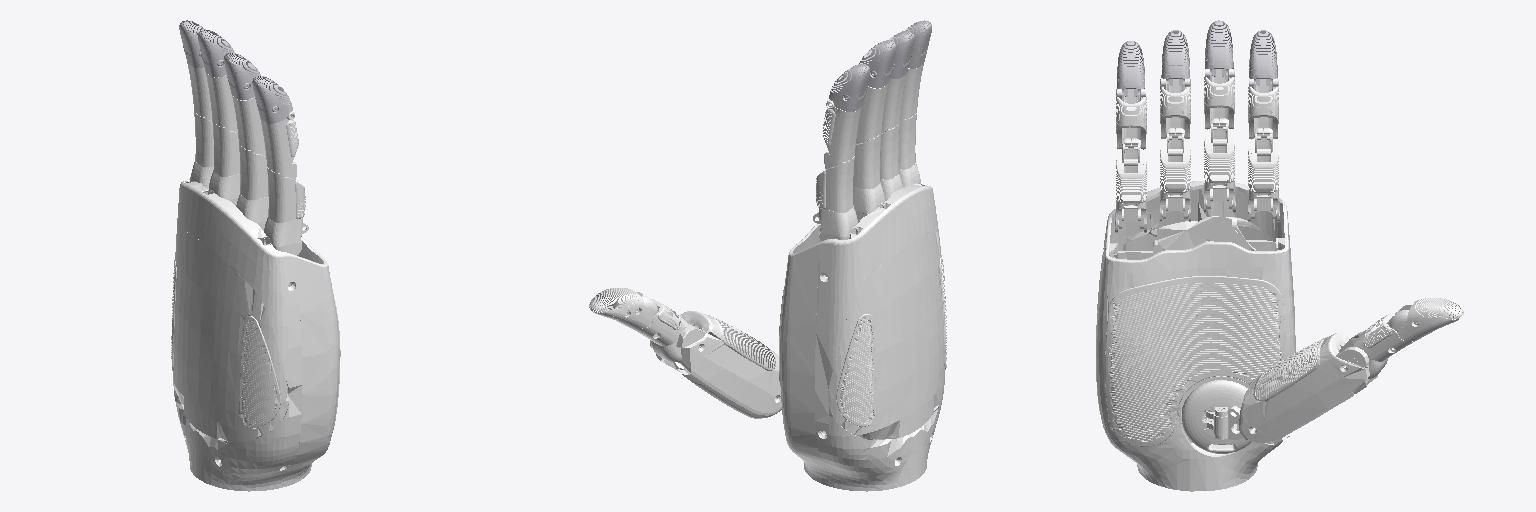
--- What the picture shows (computed from the rendered views, not written in the file) ---
The picture shows the robot from 3 angles, left to right: view 1: azimuth 30°, elevation 25°; view 2: azimuth 150°, elevation 25°; view 3: azimuth 270°, elevation 25°; orthographic projection.
Model linkerhand_l20pro_v1.0_right.urdf with 22 links and 21 joints (21 revolute), rooted at base_link, posed every joint at zero.
Links seen in each view (by area): view 1: base_link, pinky_proximal, ring_proximal, middle_proximal, pinky_middle, pinky_distal, index_proximal, ring_middle, middle_middle, ring_distal, middle_distal, index_middle (+1 smaller); view 2: base_link, thumb_metacarpals, index_proximal, middle_proximal, thumb_distal, index_middle, thumb_proximal, index_distal, ring_proximal, middle_middle, pinky_proximal, middle_distal (+4 smaller); view 3: base_link, thumb_metacarpals, thumb_metacarpals_base1, pinky_proximal, middle_proximal, index_proximal, ring_proximal, thumb_distal, thumb_proximal, ring_middle, index_middle, middle_middle (+6 smaller).
Link boxes in pixels (box(x1,y1,x2,y2)): base_link: box(171, 179, 340, 491); pinky_proximal: box(264, 162, 308, 254); ring_proximal: box(236, 143, 268, 230); middle_proximal: box(208, 121, 239, 205); pinky_middle: box(260, 112, 298, 176); pinky_distal: box(252, 76, 292, 123); index_proximal: box(190, 112, 213, 188); ring_middle: box(232, 96, 263, 153); middle_middle: box(205, 72, 236, 130); ring_distal: box(224, 53, 260, 100); middle_distal: box(198, 30, 234, 77); index_middle: box(187, 63, 211, 120); base_link: box(779, 183, 946, 491); thumb_metacarpals: box(650, 311, 781, 418); index_proximal: box(813, 152, 858, 241); middle_proximal: box(853, 133, 885, 222); thumb_distal: box(589, 288, 657, 329); index_middle: box(823, 100, 861, 166); thumb_proximal: box(633, 299, 688, 362); index_distal: box(829, 64, 869, 111); ring_proximal: box(880, 124, 902, 200); middle_middle: box(857, 83, 888, 142); pinky_proximal: box(899, 113, 920, 187); middle_distal: box(859, 40, 896, 88); base_link: box(1096, 181, 1295, 491); thumb_metacarpals: box(1237, 331, 1377, 444); thumb_metacarpals_base1: box(1182, 380, 1251, 453); pinky_proximal: box(1115, 138, 1146, 232); middle_proximal: box(1204, 118, 1235, 212); index_proximal: box(1248, 128, 1279, 221); ring_proximal: box(1160, 128, 1190, 221); thumb_distal: box(1389, 298, 1463, 341); thumb_proximal: box(1352, 314, 1412, 379); ring_middle: box(1160, 78, 1190, 138); index_middle: box(1248, 78, 1278, 138); middle_middle: box(1204, 69, 1234, 128).
Size in the robot's own frame: 0.1182 by 0.1961 by 0.2517 metres.
22 mesh visuals loaded from 22 distinct referenced files (22 binary STL).

URDF robot description (linkerhand_l20pro_v1.0_right.urdf):
<?xml version="1.0" encoding="utf-8"?>
<!-- This URDF was automatically created by SolidWorks to URDF Exporter! Originally created by Stephen Brawner ([email redacted]) 
     Commit Version: 1.6.0-1-g15f4949  Build Version: 1.6.7594.29634
     For more information, please see http://wiki.ros.org/sw_urdf_exporter -->
<robot
  name="linkerhand_l20pro_v1.0_right.urdf">
  <link
    name="base_link">
    <inertial>
      <origin
        xyz="-0.00631544454449476 0.0016887294851371 0.206318093383433"
        rpy="0 0 0" />
      <mass
        value="0.0184557796122669" />
      <inertia
        ixx="9.4731935680696E-05"
        ixy="5.28483125141477E-07"
        ixz="-1.71603786808366E-05"
        iyy="8.67320870706719E-05"
        iyz="-4.689501036235E-06"
        izz="1.58260679860554E-05" />
    </inertial>
    <visual>
      <origin
        xyz="0 0 0"
        rpy="0 0 0" />
      <geometry>
        <mesh
          filename="meshes/base_link.STL" />
      </geometry>
      <material
        name="">
        <color
          rgba="1 1 1 1" />
      </material>
    </visual>
    <collision>
      <origin
        xyz="0 0 0"
        rpy="0 0 0" />
      <geometry>
        <mesh
          filename="meshes/base_link.STL" />
      </geometry>
    </collision>
  </link>
  <link
    name="index_metacarpals">
    <inertial>
      <origin
        xyz="-0.00381524728449285 -0.0335612705443158 0.0588181054434941"
        rpy="0 0 0" />
      <mass
        value="0.0184557796122669" />
      <inertia
        ixx="9.47319356759753E-05"
        ixy="5.28483149494152E-07"
        ixz="-1.71603786976198E-05"
        iyy="8.67320870719603E-05"
        iyz="-4.68950100205031E-06"
        izz="1.58260679894876E-05" />
    </inertial>
    <visual>
      <origin
        xyz="0 0 0"
        rpy="0 0 0" />
      <geometry>
        <mesh
          filename="meshes/index_metacarpals.STL" />
      </geometry>
      <material
        name="">
        <color
          rgba="1 1 1 1" />
      </material>
    </visual>
    <collision>
      <origin
        xyz="0 0 0"
        rpy="0 0 0" />
      <geometry>
        <mesh
          filename="meshes/index_metacarpals.STL" />
      </geometry>
    </collision>
  </link>
  <joint
    name="index_mcp_roll"
    type="revolute">
    <origin
      xyz="-0.00250019735262905 0.0352500000300422 0.147499987934267"
      rpy="0 0 0" />
    <parent
      link="base_link" />
    <child
      link="index_metacarpals" />
    <axis
      xyz="1 0 0" />
    <limit
      lower="-0.2618"
      upper="0.2618"
      effort="100"
      velocity="1" />
  </joint>
  <link
    name="index_proximal">
    <inertial>
      <origin
        xyz="-0.00381524728449285 -0.0335612705443158 0.0588181054434941"
        rpy="0 0 0" />
      <mass
        value="0.0184557796122669" />
      <inertia
        ixx="9.47319356759753E-05"
        ixy="5.28483149494152E-07"
        ixz="-1.71603786976198E-05"
        iyy="8.67320870719603E-05"
        iyz="-4.68950100205031E-06"
        izz="1.58260679894876E-05" />
    </inertial>
    <visual>
      <origin
        xyz="0 0 0"
        rpy="0 0 0" />
      <geometry>
        <mesh
          filename="meshes/index_proximal.STL" />
      </geometry>
      <material
        name="">
        <color
          rgba="1 1 1 1" />
      </material>
    </visual>
    <collision>
      <origin
        xyz="0 0 0"
        rpy="0 0 0" />
      <geometry>
        <mesh
          filename="meshes/index_proximal.STL" />
      </geometry>
    </collision>
  </link>
  <joint
    name="index_mcp_pitch"
    type="revolute">
    <origin
      xyz="0 0 0"
      rpy="0 0 0" />
    <parent
      link="index_metacarpals" />
    <child
      link="index_proximal" />
    <axis
      xyz="0 1 0" />
    <limit
      lower="0"
      upper="1.3422"
      effort="100"
      velocity="1" />
  </joint>
  <link
    name="index_middle">
    <inertial>
      <origin
        xyz="0.000379310015347818 -0.0335612705427152 0.0139986727610816"
        rpy="0 0 0" />
      <mass
        value="0.0184557796122669" />
      <inertia
        ixx="9.47318862679643E-05"
        ixy="5.28489900856422E-07"
        ixz="-1.71604922899797E-05"
        iyy="8.67320870723408E-05"
        iyz="-4.68950023734492E-06"
        izz="1.58261173971183E-05" />
    </inertial>
    <visual>
      <origin
        xyz="0 0 0"
        rpy="0 0 0" />
      <geometry>
        <mesh
          filename="meshes/index_middle.STL" />
      </geometry>
      <material
        name="">
        <color
          rgba="1 1 1 1" />
      </material>
    </visual>
    <collision>
      <origin
        xyz="0 0 0"
        rpy="0 0 0" />
      <geometry>
        <mesh
          filename="meshes/index_middle.STL" />
      </geometry>
    </collision>
  </link>
  <joint
    name="index_pip"
    type="revolute">
    <origin
      xyz="-0.00419457745591119 0 0.0448194332294146"
      rpy="0 0 0" />
    <parent
      link="index_proximal" />
    <child
      link="index_middle" />
    <axis
      xyz="0 1 0" />
    <limit
      lower="0"
      upper="1.69297"
      effort="100"
      velocity="1" />
  </joint>
  <link
    name="index_distal">
    <inertial>
      <origin
        xyz="-0.00852377306534634 -0.000203307583503763 0.00894633822362381"
        rpy="0 0 0" />
      <mass
        value="0.00818272691763665" />
      <inertia
        ixx="4.17703277687667E-07"
        ixy="-1.76519629509578E-10"
        ixz="-1.38305988666323E-07"
        iyy="4.49663376327698E-07"
        iyz="8.78549591407587E-11"
        izz="3.19809016538874E-07" />
    </inertial>
    <visual>
      <origin
        xyz="0 0 0"
        rpy="0 0 0" />
      <geometry>
        <mesh
          filename="meshes/index_distal.STL" />
      </geometry>
      <material
        name="">
        <color
          rgba="0.866666666666667 0.866666666666667 0.890196078431372 1" />
      </material>
    </visual>
    <collision>
      <origin
        xyz="0 0 0"
        rpy="0 0 0" />
      <geometry>
        <mesh
          filename="meshes/index_distal.STL" />
      </geometry>
    </collision>
  </link>
  <joint
    name="index_dip"
    type="revolute">
    <origin
      xyz="0.00320206348796069 0 0.0316604484170347"
      rpy="0 0 0" />
    <parent
      link="index_middle" />
    <child
      link="index_distal" />
    <axis
      xyz="0 1 0" />
    <limit
      lower="0"
      upper="1.25"
      effort="100"
      velocity="1" />
    <mimic
      joint="index_pip"
      multiplier="0.7396"
      offset="0" />
  </joint>
  <link
    name="middle_metacarpals">
    <inertial>
      <origin
        xyz="-0.00131524716759281 -0.0100612705239658 0.0543181054400746"
        rpy="0 0 0" />
      <mass
        value="0.0184557796122669" />
      <inertia
        ixx="9.473193568938E-05"
        ixy="5.28483125398019E-07"
        ixz="-1.71603786608279E-05"
        iyy="8.67320870698851E-05"
        iyz="-4.68950104231411E-06"
        izz="1.58260679781582E-05" />
    </inertial>
    <visual>
      <origin
        xyz="0 0 0"
        rpy="0 0 0" />
      <geometry>
        <mesh
          filename="meshes/middle_metacarpals.STL" />
      </geometry>
      <material
        name="">
        <color
          rgba="1 1 1 1" />
      </material>
    </visual>
    <collision>
      <origin
        xyz="0 0 0"
        rpy="0 0 0" />
      <geometry>
        <mesh
          filename="meshes/middle_metacarpals.STL" />
      </geometry>
    </collision>
  </link>
  <joint
    name="middle_mcp_roll"
    type="revolute">
    <origin
      xyz="-0.0050002 0.01175 0.152"
      rpy="0 0 0" />
    <parent
      link="base_link" />
    <child
      link="middle_metacarpals" />
    <axis
      xyz="1 0 0" />
    <limit
      lower="-0.2618"
      upper="0.2618"
      effort="100"
      velocity="1" />
  </joint>
  <link
    name="middle_proximal">
    <inertial>
      <origin
        xyz="-0.00131524716759281 -0.0100612705239658 0.0543181054400746"
        rpy="0 0 0" />
      <mass
        value="0.0184557796122669" />
      <inertia
        ixx="9.473193568938E-05"
        ixy="5.28483125398019E-07"
        ixz="-1.71603786608279E-05"
        iyy="8.67320870698851E-05"
        iyz="-4.68950104231411E-06"
        izz="1.58260679781582E-05" />
    </inertial>
    <visual>
      <origin
        xyz="0 0 0"
        rpy="0 0 0" />
      <geometry>
        <mesh
          filename="meshes/middle_proximal.STL" />
      </geometry>
      <material
        name="">
        <color
          rgba="1 1 1 1" />
      </material>
    </visual>
    <collision>
      <origin
        xyz="0 0 0"
        rpy="0 0 0" />
      <geometry>
        <mesh
          filename="meshes/middle_proximal.STL" />
      </geometry>
    </collision>
  </link>
  <joint
    name="middle_mcp_pitch"
    type="revolute">
    <origin
      xyz="0 0 0"
      rpy="0 0 0" />
    <parent
      link="middle_metacarpals" />
    <child
      link="middle_proximal" />
    <axis
      xyz="0 1 0" />
    <limit
      lower="0"
      upper="1.3422"
      effort="100"
      velocity="1" />
  </joint>
  <link
    name="middle_middle">
    <inertial>
      <origin
        xyz="0.0028793 -0.010061 0.0094987"
        rpy="0 0 0" />
      <mass
        value="0.018456" />
      <inertia
        ixx="9.4732E-05"
        ixy="5.2849E-07"
        ixz="-1.716E-05"
        iyy="8.6732E-05"
        iyz="-4.6895E-06"
        izz="1.5826E-05" />
    </inertial>
    <visual>
      <origin
        xyz="0 0 0"
        rpy="0 0 0" />
      <geometry>
        <mesh
          filename="meshes/middle_middle.STL" />
      </geometry>
      <material
        name="">
        <color
          rgba="1 1 1 1" />
      </material>
    </visual>
    <collision>
      <origin
        xyz="0 0 0"
        rpy="0 0 0" />
      <geometry>
        <mesh
          filename="meshes/middle_middle.STL" />
      </geometry>
    </collision>
  </link>
  <joint
    name="middle_pip"
    type="revolute">
    <origin
      xyz="-0.00419457745591117 0 0.0448194332294145"
      rpy="0 0 0" />
    <parent
      link="middle_proximal" />
    <child
      link="middle_middle" />
    <axis
      xyz="0 1 0" />
    <limit
      lower="0"
      upper="1.69297"
      effort="100"
      velocity="1" />
  </joint>
  <link
    name="middle_distal">
    <inertial>
      <origin
        xyz="-0.00845381260393399 -0.000203304591779665 0.00901246396592514"
        rpy="0 0 0" />
      <mass
        value="0.00818272151090883" />
      <inertia
        ixx="4.19852064101858E-07"
        ixy="-1.75674500068995E-10"
        ixz="-1.37526252586203E-07"
        iyy="4.49662692918361E-07"
        iyz="8.91184159243184E-11"
        izz="3.17660052164253E-07" />
    </inertial>
    <visual>
      <origin
        xyz="0 0 0"
        rpy="0 0 0" />
      <geometry>
        <mesh
          filename="meshes/middle_distal.STL" />
      </geometry>
      <material
        name="">
        <color
          rgba="0.866666666666667 0.866666666666667 0.890196078431372 1" />
      </material>
    </visual>
    <collision>
      <origin
        xyz="0 0 0"
        rpy="0 0 0" />
      <geometry>
        <mesh
          filename="meshes/middle_distal.STL" />
      </geometry>
    </collision>
  </link>
  <joint
    name="middle_dip"
    type="revolute">
    <origin
      xyz="0.0032021 0 0.03166"
      rpy="0 0 0" />
    <parent
      link="middle_middle" />
    <child
      link="middle_distal" />
    <axis
      xyz="0 1 0" />
    <limit
      lower="0"
      upper="1.25"
      effort="100"
      velocity="1" />
    <mimic
      joint="middle_pip"
      multiplier="0.7396"
      offset="0" />
  </joint>
  <link
    name="ring_metacarpals">
    <inertial>
      <origin
        xyz="-0.00381524716644589 0.0134387294756574 0.0588181054426797"
        rpy="0 0 0" />
      <mass
        value="0.0184557796122669" />
      <inertia
        ixx="9.473193568938E-05"
        ixy="5.28483125397999E-07"
        ixz="-1.71603786608279E-05"
        iyy="8.67320870698851E-05"
        iyz="-4.68950104231402E-06"
        izz="1.58260679781582E-05" />
    </inertial>
    <visual>
      <origin
        xyz="0 0 0"
        rpy="0 0 0" />
      <geometry>
        <mesh
          filename="meshes/ring_metacarpals.STL" />
      </geometry>
      <material
        name="">
        <color
          rgba="1 1 1 1" />
      </material>
    </visual>
    <collision>
      <origin
        xyz="0 0 0"
        rpy="0 0 0" />
      <geometry>
        <mesh
          filename="meshes/ring_metacarpals.STL" />
      </geometry>
    </collision>
  </link>
  <joint
    name="ring_mcp_roll"
    type="revolute">
    <origin
      xyz="-0.00250019736316104 -0.0117499999954557 0.147499987942847"
      rpy="0 0 0" />
    <parent
      link="base_link" />
    <child
      link="ring_metacarpals" />
    <axis
      xyz="1 0 0" />
    <limit
      lower="-0.2618"
      upper="0.2618"
      effort="100"
      velocity="1" />
  </joint>
  <link
    name="ring_proximal">
    <inertial>
      <origin
        xyz="-0.00381524716644589 0.0134387294756574 0.0588181054426797"
        rpy="0 0 0" />
      <mass
        value="0.0184557796122669" />
      <inertia
        ixx="9.473193568938E-05"
        ixy="5.28483125397999E-07"
        ixz="-1.71603786608279E-05"
        iyy="8.67320870698851E-05"
        iyz="-4.68950104231403E-06"
        izz="1.58260679781582E-05" />
    </inertial>
    <visual>
      <origin
        xyz="0 0 0"
        rpy="0 0 0" />
      <geometry>
        <mesh
          filename="meshes/ring_proximal.STL" />
      </geometry>
      <material
        name="">
        <color
          rgba="1 1 1 1" />
      </material>
    </visual>
    <collision>
      <origin
        xyz="0 0 0"
        rpy="0 0 0" />
      <geometry>
        <mesh
          filename="meshes/ring_proximal.STL" />
      </geometry>
    </collision>
  </link>
  <joint
    name="ring_mcp_pitch"
    type="revolute">
    <origin
      xyz="0 0 0"
      rpy="0 0 0" />
    <parent
      link="ring_metacarpals" />
    <child
      link="ring_proximal" />
    <axis
      xyz="0 1 0" />
    <limit
      lower="0"
      upper="1.3422"
      effort="100"
      velocity="1" />
  </joint>
  <link
    name="ring_middle">
    <inertial>
      <origin
        xyz="0.00037931 0.013439 0.013999"
        rpy="0 0 0" />
      <mass
        value="0.018456" />
      <inertia
        ixx="9.4732E-05"
        ixy="5.2849E-07"
        ixz="-1.716E-05"
        iyy="8.6732E-05"
        iyz="-4.6895E-06"
        izz="1.5826E-05" />
    </inertial>
    <visual>
      <origin
        xyz="0 0 0"
        rpy="0 0 0" />
      <geometry>
        <mesh
          filename="meshes/ring_middle.STL" />
      </geometry>
      <material
        name="">
        <color
          rgba="1 1 1 1" />
      </material>
    </visual>
    <collision>
      <origin
        xyz="0 0 0"
        rpy="0 0 0" />
      <geometry>
        <mesh
          filename="meshes/ring_middle.STL" />
      </geometry>
    </collision>
  </link>
  <joint
    name="ring_pip"
    type="revolute">
    <origin
      xyz="-0.00419457745591118 0 0.0448194332294145"
      rpy="0 0 0" />
    <parent
      link="ring_proximal" />
    <child
      link="ring_middle" />
    <axis
      xyz="0 1 0" />
    <limit
      lower="0"
      upper="1.69297"
      effort="100"
      velocity="1" />
  </joint>
  <link
    name="ring_distal">
    <inertial>
      <origin
        xyz="-0.00845547664679549 0.000195533577426556 0.00901097120211655"
        rpy="0 0 0" />
      <mass
        value="0.00818275453986967" />
      <inertia
        ixx="4.19803325595036E-07"
        ixy="-1.75687640844023E-10"
        ixz="-1.37546551087708E-07"
        iyy="4.49666480008407E-07"
        iyz="8.91125389758761E-11"
        izz="3.1771264359821E-07" />
    </inertial>
    <visual>
      <origin
        xyz="0 0 0"
        rpy="0 0 0" />
      <geometry>
        <mesh
          filename="meshes/ring_distal.STL" />
      </geometry>
      <material
        name="">
        <color
          rgba="0.866666666666667 0.866666666666667 0.890196078431372 1" />
      </material>
    </visual>
    <collision>
      <origin
        xyz="0 0 0"
        rpy="0 0 0" />
      <geometry>
        <mesh
          filename="meshes/ring_distal.STL" />
      </geometry>
    </collision>
  </link>
  <joint
    name="ring_dip"
    type="revolute">
    <origin
      xyz="0.00320206348796068 0 0.0316604484170347"
      rpy="0 0 0" />
    <parent
      link="ring_middle" />
    <child
      link="ring_distal" />
    <axis
      xyz="0 1 0" />
    <limit
      lower="0"
      upper="1.25"
      effort="100"
      velocity="1" />
    <mimic
      joint="ring_pip"
      multiplier="0.7396"
      offset="0" />
  </joint>
  <link
    name="pinky_metacarpals">
    <inertial>
      <origin
        xyz="-0.00731533831723678 0.03693872947705 0.0633180949135027"
        rpy="0 0 0" />
      <mass
        value="0.0184557796122669" />
      <inertia
        ixx="9.47318862814874E-05"
        ixy="5.28489875864518E-07"
        ixz="-1.71604922526628E-05"
        iyy="8.67320870701472E-05"
        iyz="-4.68950027953051E-06"
        izz="1.58261173857887E-05" />
    </inertial>
    <visual>
      <origin
        xyz="0 0 0"
        rpy="0 0 0" />
      <geometry>
        <mesh
          filename="meshes/pinky_metacarpals.STL" />
      </geometry>
      <material
        name="">
        <color
          rgba="1 1 1 1" />
      </material>
    </visual>
    <collision>
      <origin
        xyz="0 0 0"
        rpy="0 0 0" />
      <geometry>
        <mesh
          filename="meshes/pinky_metacarpals.STL" />
      </geometry>
    </collision>
  </link>
  <joint
    name="pinky_mcp_roll"
    type="revolute">
    <origin
      xyz="0.0009998 -0.03525 0.143"
      rpy="0 0 0" />
    <parent
      link="base_link" />
    <child
      link="pinky_metacarpals" />
    <axis
      xyz="1 0 0" />
    <limit
      lower="-0.2618"
      upper="0.2618"
      effort="100"
      velocity="1" />
  </joint>
  <link
    name="pinky_proximal">
    <inertial>
      <origin
        xyz="-0.00731533831723678 0.03693872947705 0.0633180949135027"
        rpy="0 0 0" />
      <mass
        value="0.0184557796122669" />
      <inertia
        ixx="9.47318862814874E-05"
        ixy="5.28489875864518E-07"
        ixz="-1.71604922526628E-05"
        iyy="8.67320870701472E-05"
        iyz="-4.68950027953051E-06"
        izz="1.58261173857887E-05" />
    </inertial>
    <visual>
      <origin
        xyz="0 0 0"
        rpy="0 0 0" />
      <geometry>
        <mesh
          filename="meshes/pinky_proximal.STL" />
      </geometry>
      <material
        name="">
        <color
          rgba="1 1 1 1" />
      </material>
    </visual>
    <collision>
      <origin
        xyz="0 0 0"
        rpy="0 0 0" />
      <geometry>
        <mesh
          filename="meshes/pinky_proximal.STL" />
      </geometry>
    </collision>
  </link>
  <joint
    name="pinky_mcp_pitch"
    type="revolute">
    <origin
      xyz="0 0 0"
      rpy="0 0 0" />
    <parent
      link="pinky_metacarpals" />
    <child
      link="pinky_proximal" />
    <axis
      xyz="0 1 0" />
    <limit
      lower="0"
      upper="1.3422"
      effort="100"
      velocity="1" />
  </joint>
  <link
    name="pinky_middle">
    <inertial>
      <origin
        xyz="0.00037931 0.013439 0.013999"
        rpy="0 0 0" />
      <mass
        value="0.018456" />
      <inertia
        ixx="9.4732E-05"
        ixy="5.2849E-07"
        ixz="-1.716E-05"
        iyy="8.6732E-05"
        iyz="-4.6895E-06"
        izz="1.5826E-05" />
    </inertial>
    <visual>
      <origin
        xyz="0 0 0"
        rpy="0 0 0" />
      <geometry>
        <mesh
          filename="meshes/pinky_middle.STL" />
      </geometry>
      <material
        name="">
        <color
          rgba="1 1 1 1" />
      </material>
    </visual>
    <collision>
      <origin
        xyz="0 0 0"
        rpy="0 0 0" />
      <geometry>
        <mesh
          filename="meshes/pinky_middle.STL" />
      </geometry>
    </collision>
  </link>
  <joint
    name="pinky_pip"
    type="revolute">
    <origin
      xyz="-0.0076946 0.0235 0.049319"
      rpy="0 0 0" />
    <parent
      link="pinky_proximal" />
    <child
      link="pinky_middle" />
    <axis
      xyz="0 1 0" />
    <limit
      lower="0"
      upper="1.693"
      effort="100"
      velocity="1" />
  </joint>
  <link
    name="pinky_distal">
    <inertial>
      <origin
        xyz="-0.00850222473325968 -0.000203303795147866 0.00896687092586304"
        rpy="0 0 0" />
      <mass
        value="0.00818275926134031" />
      <inertia
        ixx="4.18369702106363E-07"
        ixy="-1.76118934274718E-10"
        ixz="-1.38070197893498E-07"
        iyy="4.49666801705453E-07"
        iyz="8.82034372859545E-11"
        izz="3.19146202279066E-07" />
    </inertial>
    <visual>
      <origin
        xyz="0 0 0"
        rpy="0 0 0" />
      <geometry>
        <mesh
          filename="meshes/pinky_distal.STL" />
      </geometry>
      <material
        name="">
        <color
          rgba="0.866666666666667 0.866666666666667 0.890196078431372 1" />
      </material>
    </visual>
    <collision>
      <origin
        xyz="0 0 0"
        rpy="0 0 0" />
      <geometry>
        <mesh
          filename="meshes/pinky_distal.STL" />
      </geometry>
    </collision>
  </link>
  <joint
    name="pinky_dip"
    type="revolute">
    <origin
      xyz="0.00670206996232169 -0.0235000000005 0.0271604534533937"
      rpy="0 0 0" />
    <parent
      link="pinky_middle" />
    <child
      link="pinky_distal" />
    <axis
      xyz="0 1 0" />
    <limit
      lower="0"
      upper="1.24"
      effort="100"
      velocity="1" />
    <mimic
      joint="pinky_pip"
      multiplier="0.7396"
      offset="0" />
  </joint>
  <link
    name="thumb_metacarpals_base1">
    <inertial>
      <origin
        xyz="0.0134724353960023 1.0351626304559E-05 -0.00238205216079675"
        rpy="0 0 0" />
      <mass
        value="0.00252176316153845" />
      <inertia
        ixx="6.26810855308573E-07"
        ixy="-3.32426835069964E-09"
        ixz="1.29826443185812E-08"
        iyy="3.58172006507018E-07"
        iyz="-3.52633067696522E-10"
        izz="2.94683211652898E-07" />
    </inertial>
    <visual>
      <origin
        xyz="0 0 0"
        rpy="0 0 0" />
      <geometry>
        <mesh
          filename="meshes/thumb_metacarpals_base1.STL" />
      </geometry>
      <material
        name="">
        <color
          rgba="1 1 1 1" />
      </material>
    </visual>
    <collision>
      <origin
        xyz="0 0 0"
        rpy="0 0 0" />
      <geometry>
        <mesh
          filename="meshes/thumb_metacarpals_base1.STL" />
      </geometry>
    </collision>
  </link>
  <joint
    name="thumb_cmc_roll"
    type="revolute">
    <origin
      xyz="0.0148 0.013 0.0415000000000001"
      rpy="0 0 0" />
    <parent
      link="base_link" />
    <child
      link="thumb_metacarpals_base1" />
    <axis
      xyz="1 0 0" />
    <limit
      lower="-0.31416"
      upper="0.61087"
      effort="100"
      velocity="1" />
  </joint>
  <link
    name="thumb_metacarpals_base2">
    <inertial>
      <origin
        xyz="-0.041115 -0.011311 0.16482"
        rpy="0 0 0" />
      <mass
        value="0.018456" />
      <inertia
        ixx="9.4732E-05"
        ixy="5.2848E-07"
        ixz="-1.716E-05"
        iyy="8.6732E-05"
        iyz="-4.6895E-06"
        izz="1.5826E-05" />
    </inertial>
    <visual>
      <origin
        xyz="0 0 0"
        rpy="0 0 0" />
      <geometry>
        <mesh
          filename="meshes/thumb_metacarpals_base2.STL" />
      </geometry>
      <material
        name="">
        <color
          rgba="1 1 1 1" />
      </material>
    </visual>
    <collision>
      <origin
        xyz="0 0 0"
        rpy="0 0 0" />
      <geometry>
        <mesh
          filename="meshes/thumb_metacarpals_base2.STL" />
      </geometry>
    </collision>
  </link>
  <joint
    name="thumb_cmc_yaw"
    type="revolute">
    <origin
      xyz="0.02 0 0"
      rpy="0 0 0" />
    <parent
      link="thumb_metacarpals_base1" />
    <child
      link="thumb_metacarpals_base2" />
    <axis
      xyz="0 0 -1" />
    <limit
      lower="0"
      upper="1.75"
      effort="100"
      velocity="1" />
  </joint>
  <link
    name="thumb_metacarpals">
    <inertial>
      <origin
        xyz="-0.0347244266453636 -0.0435515416671891 0.164318093383433"
        rpy="0 0 0" />
      <mass
        value="0.0184557796122669" />
      <inertia
        ixx="9.41283174799894E-05"
        ixy="-2.17802518471267E-06"
        ixz="-1.45037772923998E-05"
        iyy="8.73357052713785E-05"
        iyz="-1.03009931895439E-05"
        izz="1.58260679860554E-05" />
    </inertial>
    <visual>
      <origin
        xyz="0 0 0"
        rpy="0 0 0" />
      <geometry>
        <mesh
          filename="meshes/thumb_metacarpals.STL" />
      </geometry>
      <material
        name="">
        <color
          rgba="1 1 1 1" />
      </material>
    </visual>
    <collision>
      <origin
        xyz="0 0 0"
        rpy="0 0 0" />
      <geometry>
        <mesh
          filename="meshes/thumb_metacarpals.STL" />
      </geometry>
    </collision>
  </link>
  <joint
    name="thumb_cmc_pitch"
    type="revolute">
    <origin
      xyz="0.00646053351359761 0.0176550702836233 0.000499999999999952"
      rpy="0 0 -0.350795957657626" />
    <parent
      link="thumb_metacarpals_base2" />
    <child
      link="thumb_metacarpals" />
    <axis
      xyz="1 0 0" />
    <limit
      lower="0"
      upper="0.73304"
      effort="100"
      velocity="1" />
  </joint>
  <link
    name="thumb_proximal">
    <inertial>
      <origin
        xyz="0.151436626625708 -0.034724426647133 -0.0125219214388285"
        rpy="0 0 0" />
      <mass
        value="0.0184557796122669" />
      <inertia
        ixx="3.32279829057112E-05"
        ixy="-1.00399637165933E-05"
        ixz="3.23680157222152E-05"
        iyy="9.41283174799731E-05"
        iyz="-1.06912336998037E-05"
        izz="6.99337903517389E-05" />
    </inertial>
    <visual>
      <origin
        xyz="0 0 0"
        rpy="0 0 0" />
      <geometry>
        <mesh
          filename="meshes/thumb_proximal.STL" />
      </geometry>
      <material
        name="">
        <color
          rgba="1 1 1 1" />
      </material>
    </visual>
    <collision>
      <origin
        xyz="0 0 0"
        rpy="0 0 0" />
      <geometry>
        <mesh
          filename="meshes/thumb_proximal.STL" />
      </geometry>
    </collision>
  </link>
  <joint
    name="thumb_mcp"
    type="revolute">
    <origin
      xyz="0 0.0600532698441728 0.0531610268874242"
      rpy="0 -0.903049247099703 -1.57079632679359" />
    <parent
      link="thumb_metacarpals" />
    <child
      link="thumb_proximal" />
    <axis
      xyz="0 1 0" />
    <limit
      lower="0"
      upper="0.83776"
      effort="100"
      velocity="1" />
  </joint>
  <link
    name="thumb_distal">
    <inertial>
      <origin
        xyz="0.153583725298444 -0.0347244266470092 -0.0470514445684649"
        rpy="0 0 0" />
      <mass
        value="0.0184557796122669" />
      <inertia
        ixx="3.3227982905695E-05"
        ixy="-1.00399637165439E-05"
        ixz="3.23680157222239E-05"
        iyy="9.41283174799894E-05"
        iyz="-1.06912336997775E-05"
        izz="6.9933790351739E-05" />
    </inertial>
    <visual>
      <origin
        xyz="0 0 0"
        rpy="0 0 0" />
      <geometry>
        <mesh
          filename="meshes/thumb_distal.STL" />
      </geometry>
      <material
        name="">
        <color
          rgba="1 1 1 1" />
      </material>
    </visual>
    <collision>
      <origin
        xyz="0 0 0"
        rpy="0 0 0" />
      <geometry>
        <mesh
          filename="meshes/thumb_distal.STL" />
      </geometry>
    </collision>
  </link>
  <joint
    name="thumb_ip"
    type="revolute">
    <origin
      xyz="-0.0021470986727075 0 0.0345295231296363"
      rpy="0 0 0" />
    <parent
      link="thumb_proximal" />
    <child
      link="thumb_distal" />
    <axis
      xyz="0 1 0" />
    <limit
      lower="0"
      upper="1.39626"
      effort="100"
      velocity="1" />
  </joint>
</robot>
